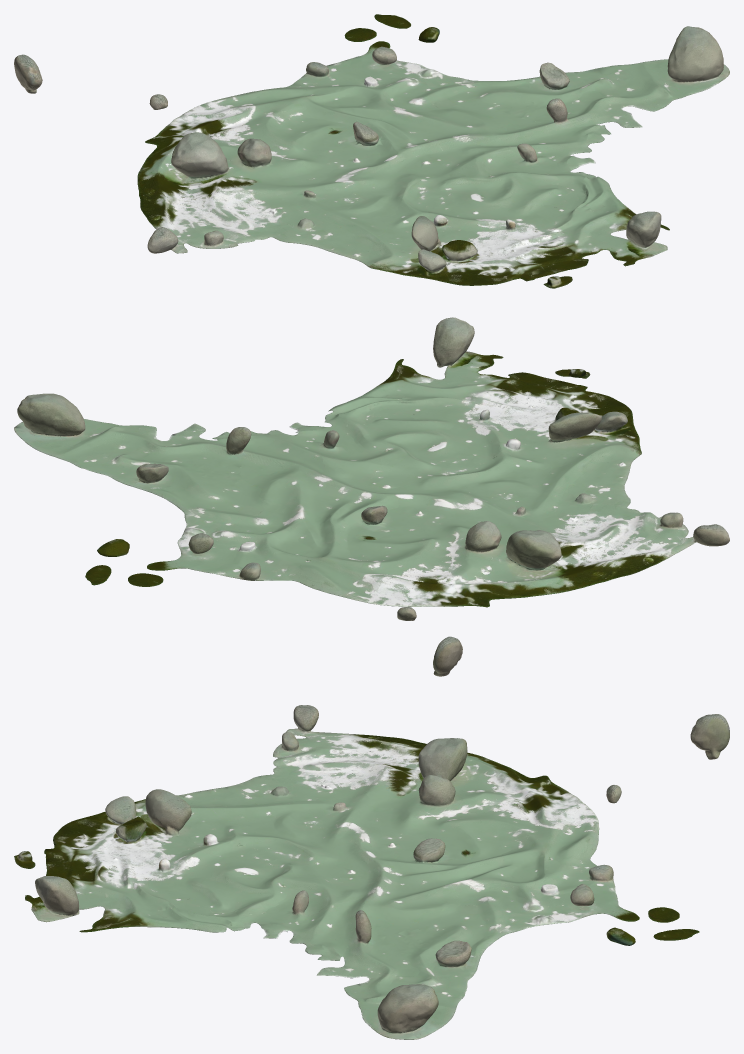
Rendered from seafloor-v2.glb.
3 renders of one model, top to bottom at view 1: azimuth 30°, elevation 25°; view 2: azimuth 150°, elevation 25°; view 3: azimuth 270°, elevation 25°, orthographic. The views are drawn at different scales.
Size of the model in its own units: 1.9 by 0.1146 by 1.78.
Materials: 1 (1 with a texture image).
